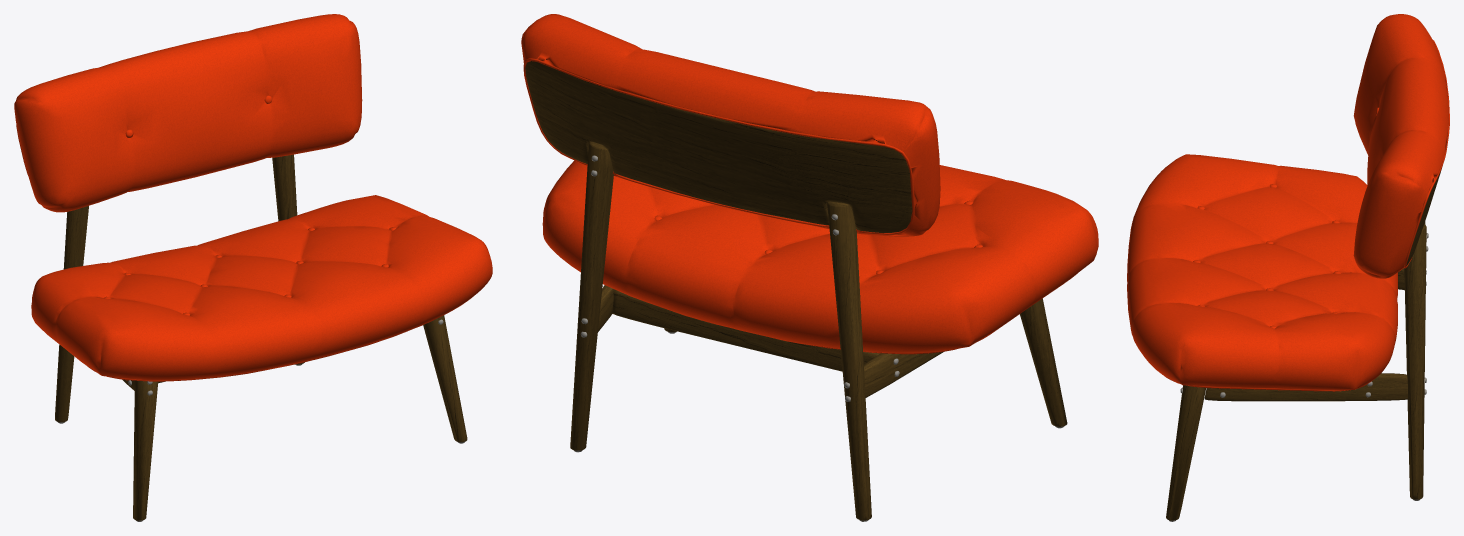
The model's file is sheen_chair.glb.
3 views of the same model, side by side, from view 1: azimuth 30°, elevation 25°; view 2: azimuth 150°, elevation 25°; view 3: azimuth 270°, elevation 25° (orthographic). The views are drawn at different scales.
Parts seen in each view (by area): view 1: SheenChair_fabric, SheenChair_wood; view 2: SheenChair_fabric, SheenChair_wood; view 3: SheenChair_fabric, SheenChair_wood.
Part boxes in pixels (<box>): SheenChair_fabric: <box>14,14,492,381</box>; SheenChair_wood: <box>55,154,467,520</box>; SheenChair_fabric: <box>521,14,1098,354</box>; SheenChair_wood: <box>525,61,1067,520</box>; SheenChair_fabric: <box>1127,14,1449,391</box>; SheenChair_wood: <box>1166,168,1441,520</box>.
Size of the model in its own units: 0.8265 by 0.6861 by 0.57.
Materials: 4 (3 with a texture image).
